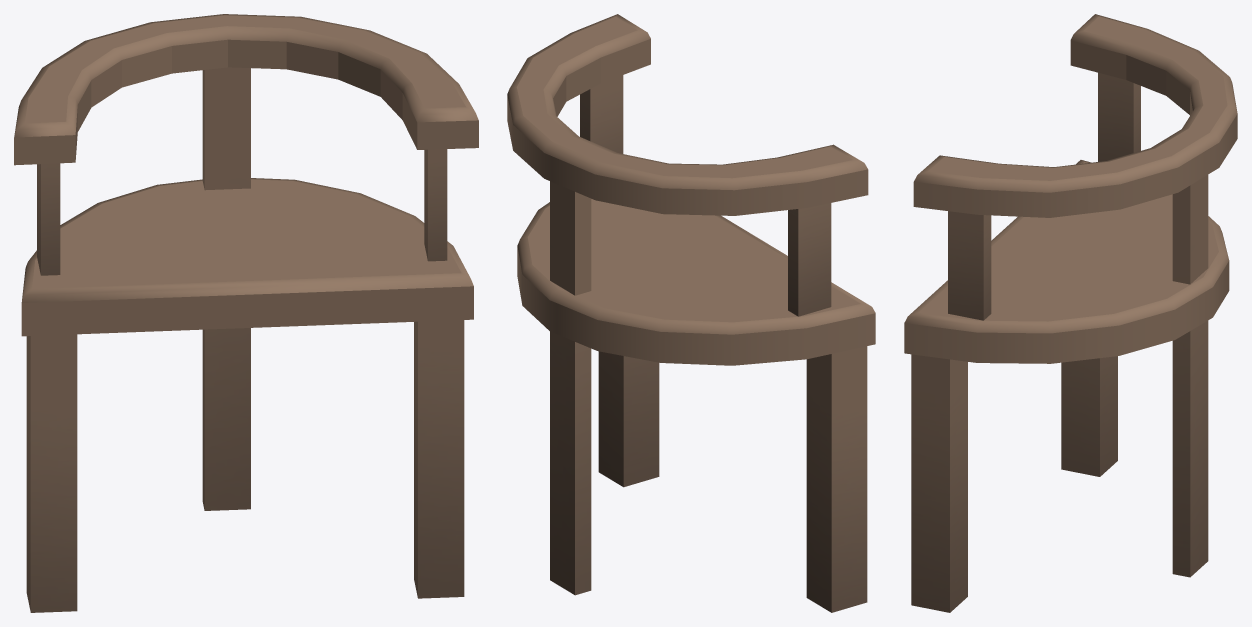
Rendered from RoundedChair.FBX.
The picture shows the model from 3 angles, left to right: view 1: azimuth 30°, elevation 25°; view 2: azimuth 150°, elevation 25°; view 3: azimuth 270°, elevation 25°; orthographic projection. The views are drawn at different scales.
Visible parts, largest first — view 1: RoundedChair_000; view 2: RoundedChair_000; view 3: RoundedChair_000.
Boxes of the visible parts, left/top/right/bottom form: RoundedChair_000: left=14, top=14, right=478, bottom=612; RoundedChair_000: left=507, top=14, right=875, bottom=612; RoundedChair_000: left=904, top=14, right=1237, bottom=612.
Bounding box in the file's own units: 27.43 × 32.18 × 22.15.
